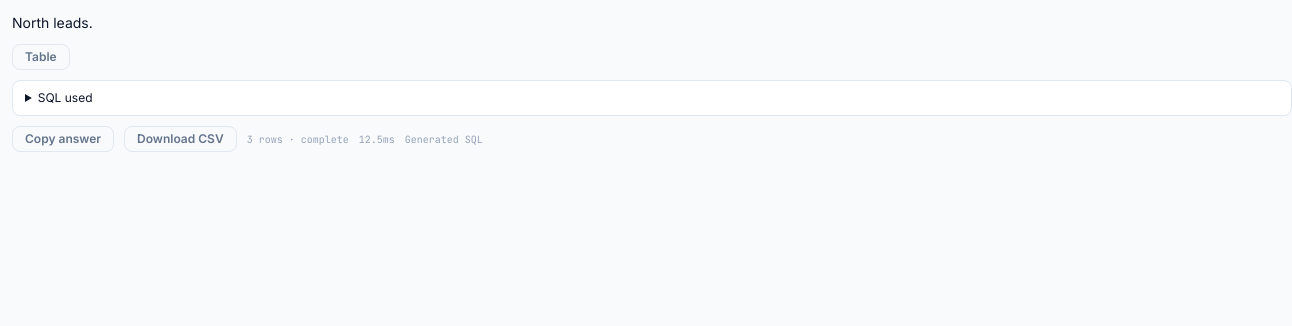
Test: AnswerView › narrative and takeaways show text with the table behind a tab
This screenshot has width=1292, height=326.
Click the tab "Table" at [41, 57], box [12,44,70,70]
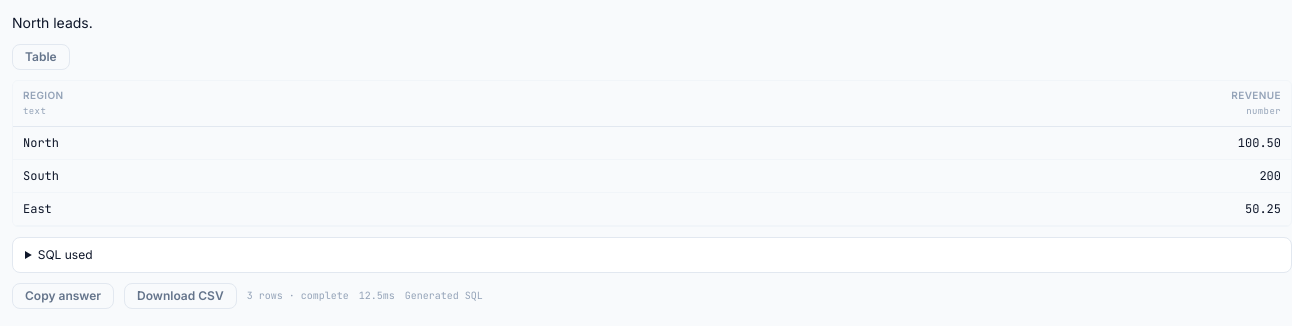
Expected: the element named "Result table" is shown, [12,80,1291,227]
Click the tab "Table" at [41, 57], box [12,44,70,70]
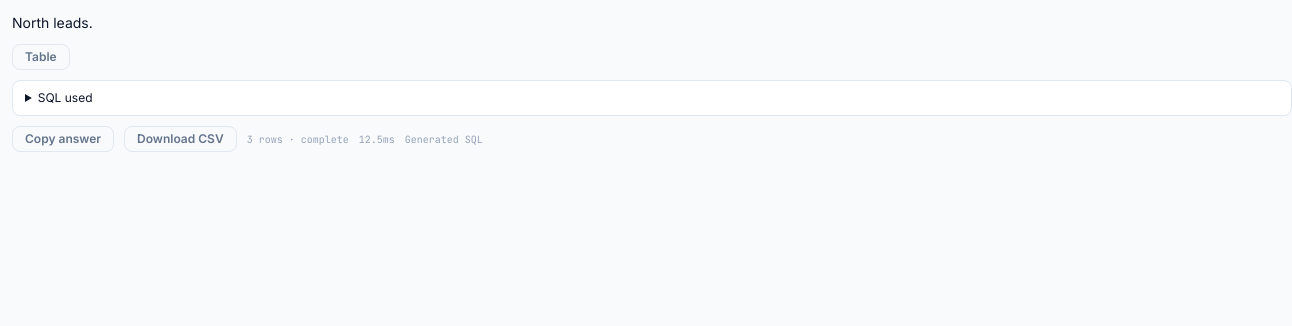
Expected: the table "Result table" is gone
